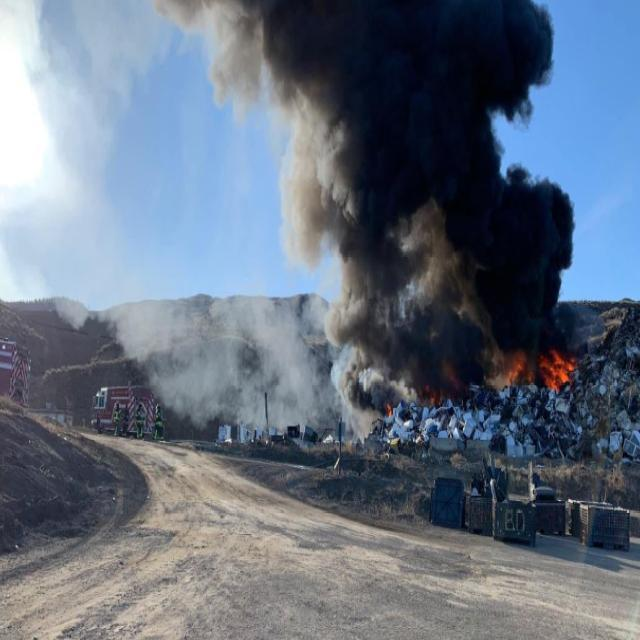Fire: (538, 348, 580, 388)
Smoke: (203, 0, 586, 384), (96, 256, 330, 430)
